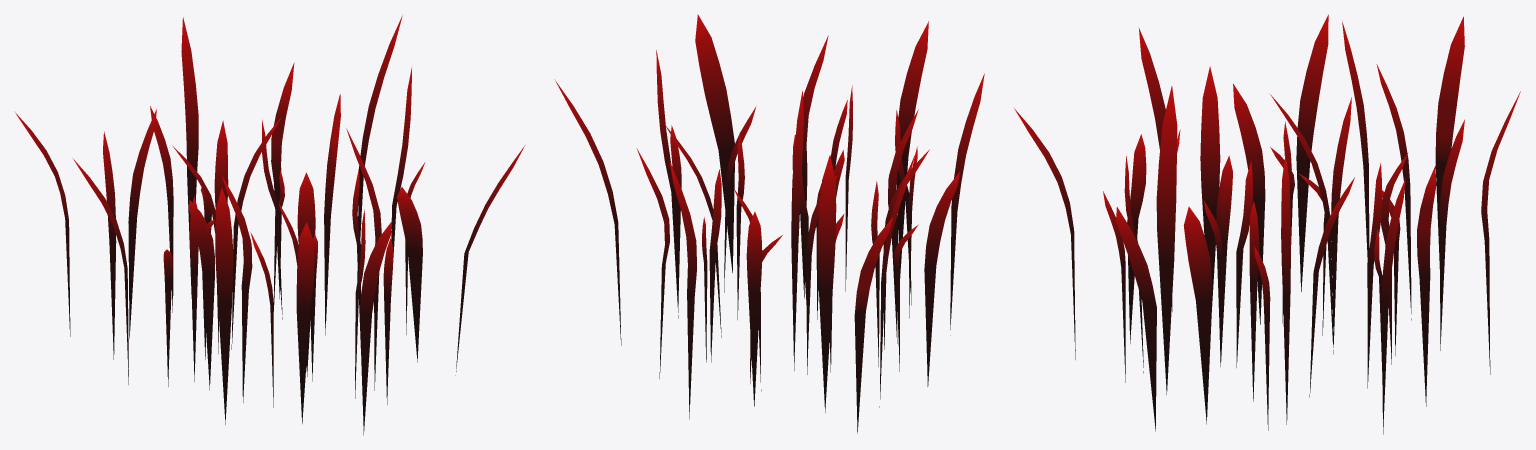
The model's file is Grass.fbx.
3 renders of one model, left to right at view 1: azimuth 30°, elevation 25°; view 2: azimuth 150°, elevation 25°; view 3: azimuth 270°, elevation 25°, orthographic. The views are drawn at different scales.
Visible parts, largest first — view 1: Grass; view 2: Grass; view 3: Grass.
Part boxes in pixels (box(x1,y1,x2,y2)): Grass: box(14, 15, 525, 435); Grass: box(554, 14, 984, 433); Grass: box(1014, 14, 1520, 434).
Bounding box in the file's own units: 64.74 × 46.14 × 71.39.
